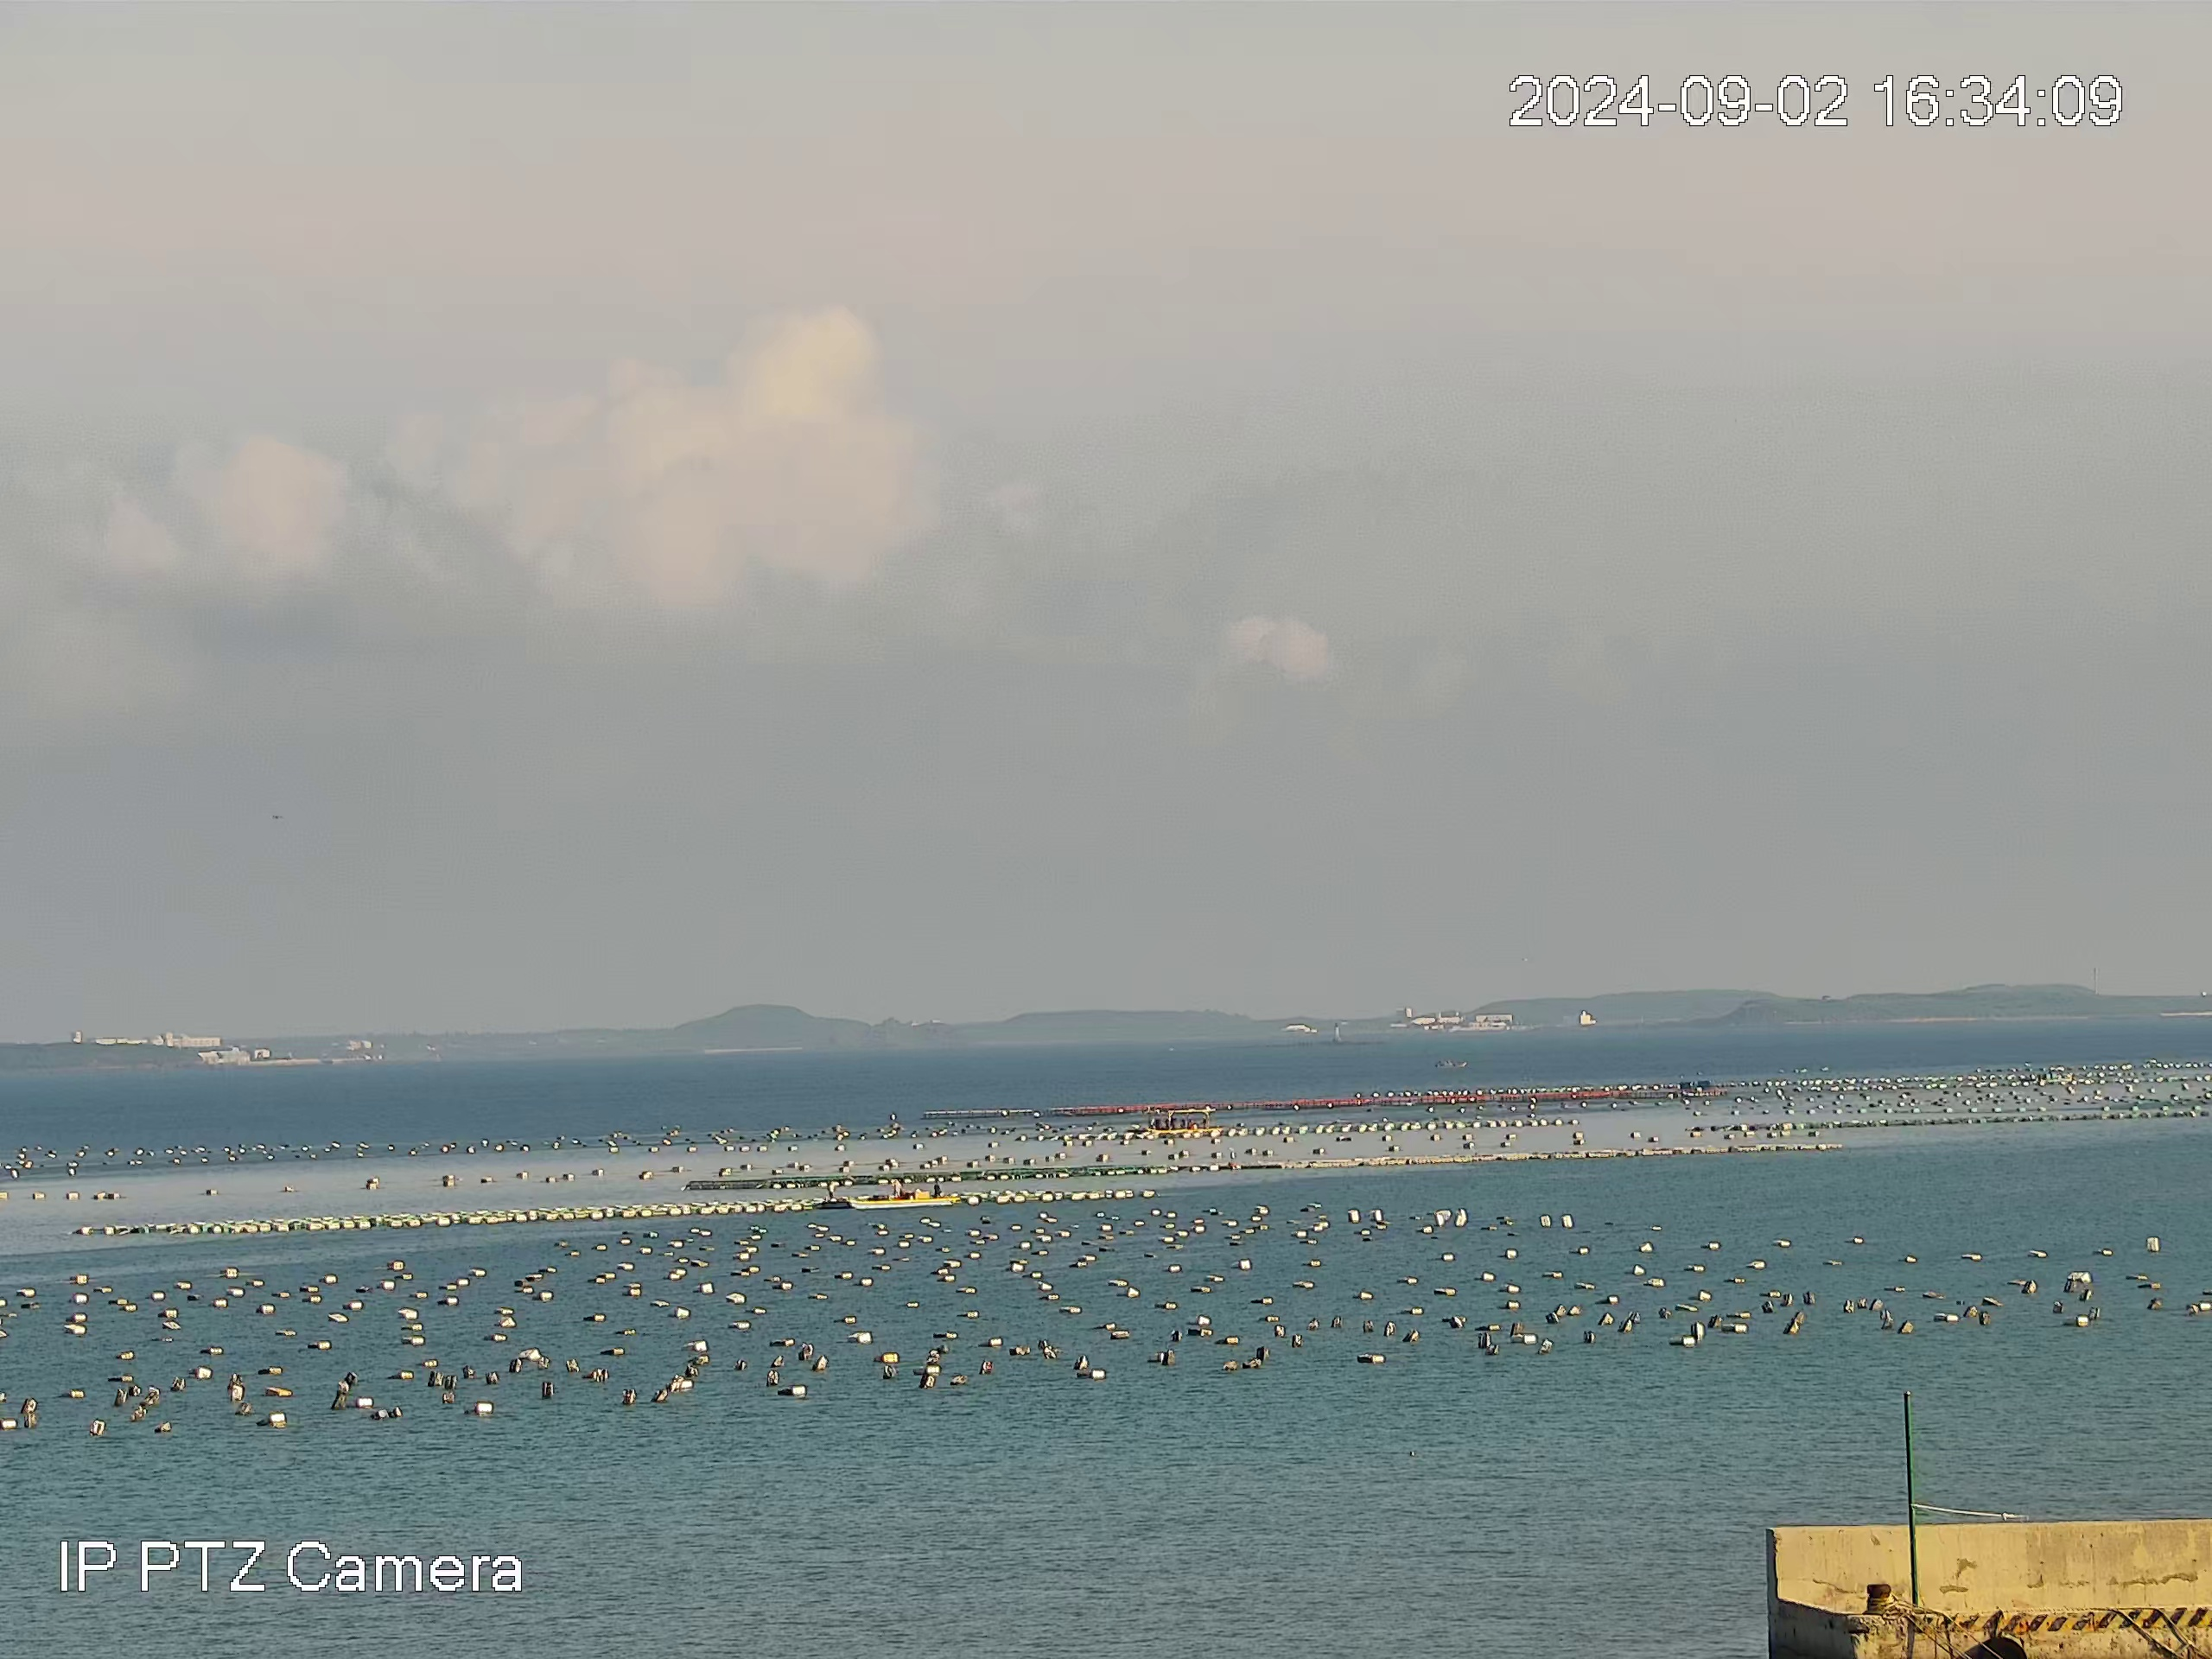boat: (845, 1177, 960, 1210), (1146, 1104, 1224, 1133), (1433, 1058, 1467, 1069)
